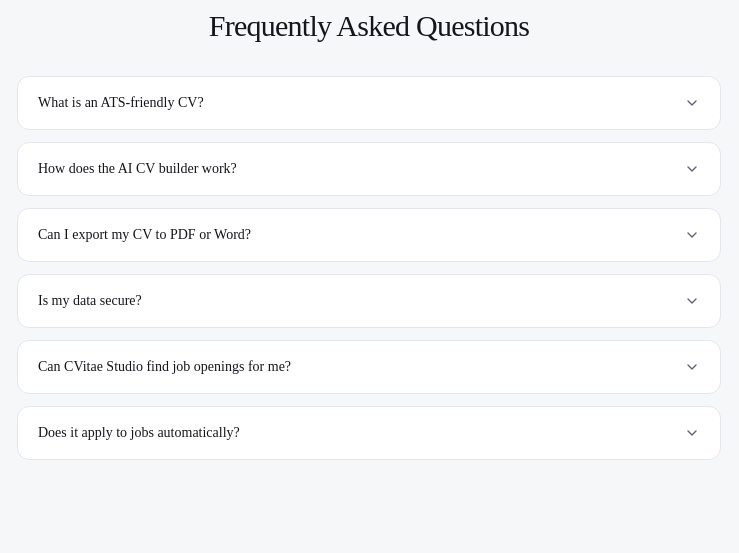
Test: FaqSection › expands an answer when its question is clicked
Click the button "What is an ATS-friendly CV?" at (121, 102), box left=18, top=77, right=720, bottom=129
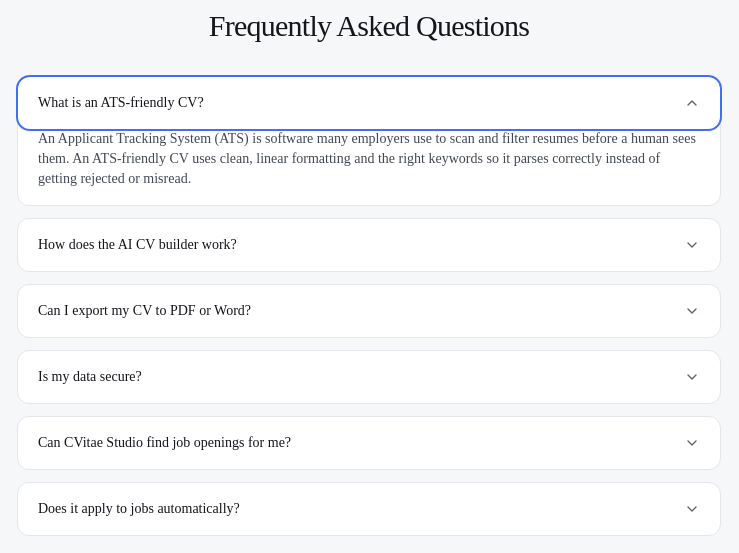
Expected: the button "What is an ATS-friendly CV?" is expanded, left=18, top=77, right=720, bottom=129
Expected: the text "Applicant Tracking System" is shown, left=38, top=131, right=696, bottom=186
